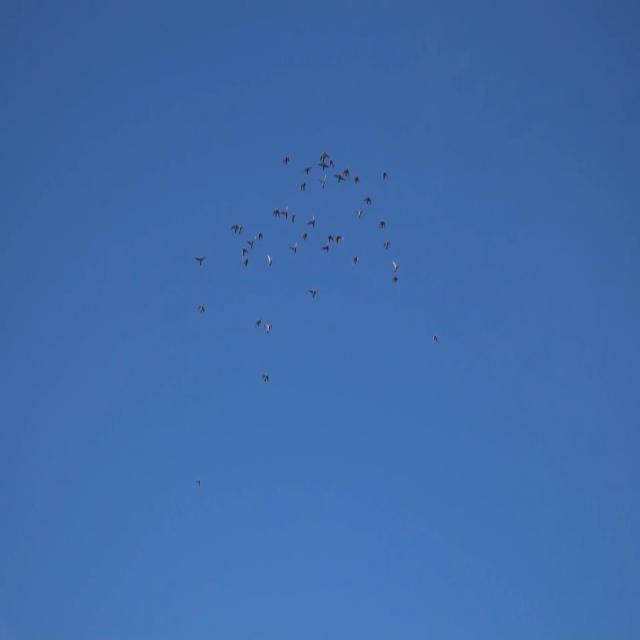bird: (319, 239, 330, 255), (306, 212, 316, 228), (194, 253, 206, 266), (280, 205, 289, 222), (334, 172, 345, 185), (363, 195, 373, 208), (246, 235, 256, 248), (289, 240, 298, 254), (264, 322, 273, 336), (318, 160, 328, 172), (302, 164, 312, 176), (319, 174, 327, 189), (240, 246, 250, 258), (383, 239, 392, 252), (379, 216, 386, 232), (392, 258, 400, 272), (318, 150, 329, 160), (334, 235, 346, 244), (267, 252, 273, 270), (308, 287, 317, 299), (326, 232, 334, 245), (230, 222, 237, 236), (432, 332, 439, 346), (353, 174, 361, 186), (197, 304, 206, 314), (261, 373, 270, 383), (282, 154, 290, 165), (300, 180, 307, 192), (255, 317, 262, 329), (382, 169, 388, 182), (273, 207, 279, 220), (392, 272, 398, 285), (301, 232, 308, 243), (290, 213, 296, 225), (237, 224, 243, 236), (258, 230, 264, 242), (356, 208, 363, 218), (243, 258, 249, 269), (344, 166, 349, 179), (328, 160, 334, 170), (353, 254, 358, 266), (195, 478, 201, 488)
